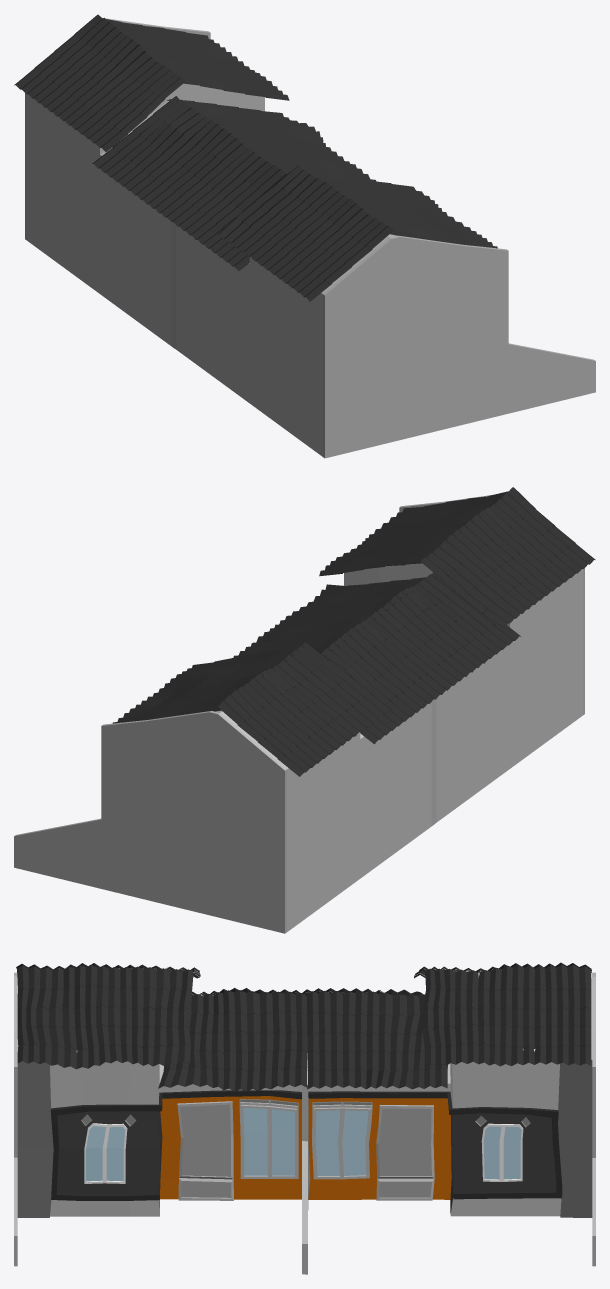
The model's file is rumah perumahan 1.fbx.
3 views of the same model, one above another, from view 1: azimuth 30°, elevation 25°; view 2: azimuth 150°, elevation 25°; view 3: azimuth 270°, elevation 25° (orthographic). The views are drawn at different scales.
Visible parts, largest first — view 1: Cube.005, Cube.002, Cube.008, Cube; view 2: Cube, Cube.008, Cube.002, Cube.005; view 3: Cube, Cube.005, Cube.008, Cube.002.
Part boxes in pixels (x1,y1,x2,y2): Cube.005: [175, 224, 595, 458]; Cube.002: [14, 14, 349, 217]; Cube.008: [165, 148, 497, 301]; Cube: [25, 18, 264, 348]; Cube: [14, 699, 434, 933]; Cube.008: [256, 487, 595, 689]; Cube.002: [112, 620, 447, 776]; Cube.005: [344, 495, 584, 823]; Cube: [305, 972, 595, 1274]; Cube.005: [14, 972, 304, 1274]; Cube.008: [16, 963, 307, 1091]; Cube.002: [301, 962, 591, 1089].
Bounding box in the file's own units: 936 × 632 × 1606.
